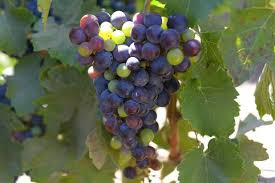Black grapes: (70, 12, 201, 178)
